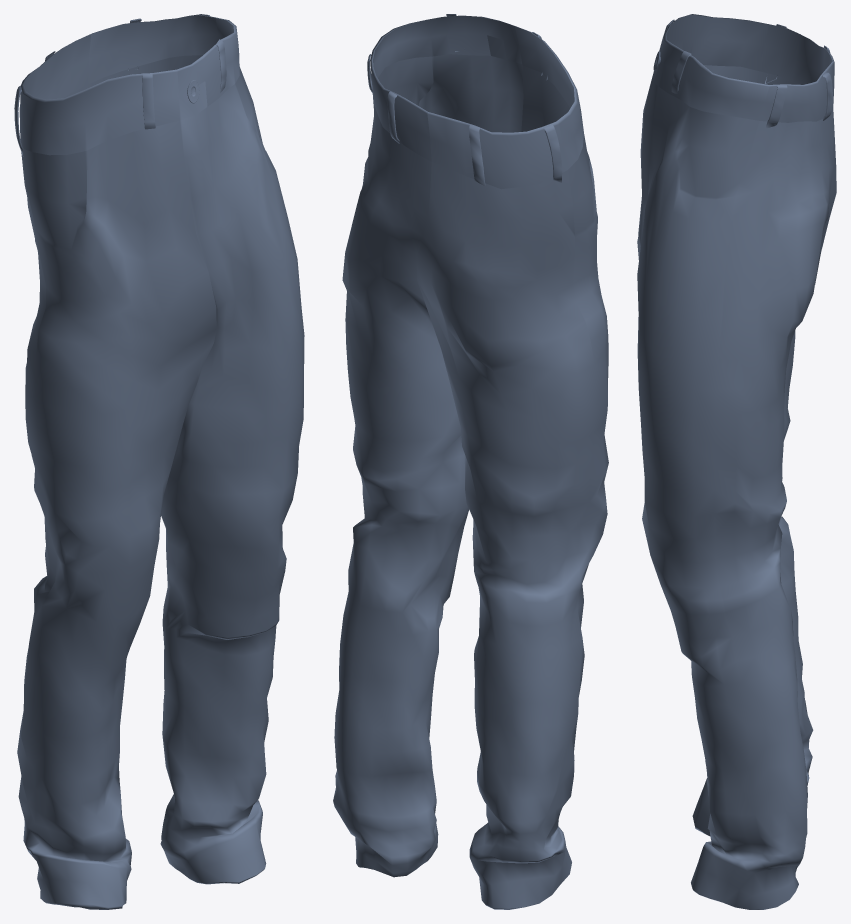
File: pickup_cloth_legs.glb
3 views of the same model, side by side, from view 1: azimuth 30°, elevation 25°; view 2: azimuth 150°, elevation 25°; view 3: azimuth 270°, elevation 25° (orthographic). The views are drawn at different scales.
Parts seen in each view (by area): view 1: cloth_legs.001; view 2: cloth_legs.001; view 3: cloth_legs.001.
Part boxes in pixels (bbox=[...]): cloth_legs.001: bbox=[14, 14, 304, 909]; cloth_legs.001: bbox=[333, 14, 608, 909]; cloth_legs.001: bbox=[637, 14, 836, 909].
Bounding box in the file's own units: 0.6987 × 2.29 × 0.4948.
